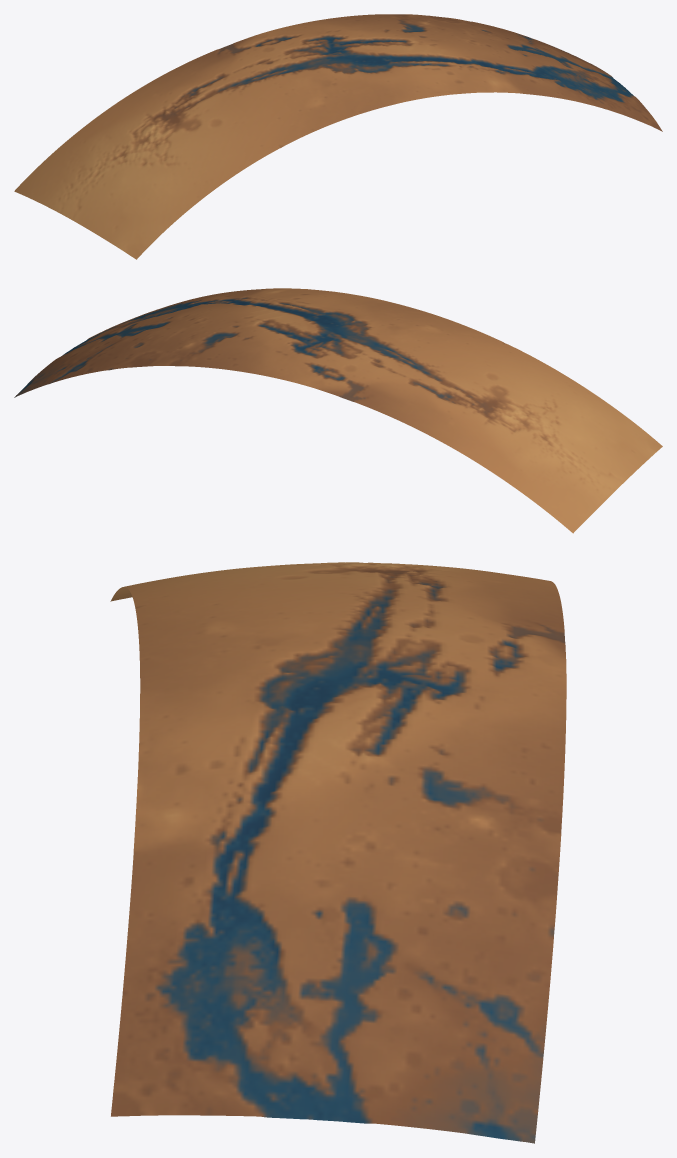
Rendered from mola-valles-marineris.glb.
3 renders of one model, top to bottom at view 1: azimuth 30°, elevation 25°; view 2: azimuth 150°, elevation 25°; view 3: azimuth 270°, elevation 25°, orthographic. The views are drawn at different scales.
Visible parts, largest first — view 1: Valles Marineris MOLA terrain; view 2: Valles Marineris MOLA terrain; view 3: Valles Marineris MOLA terrain.
Boxes of the visible parts, x1=… form: Valles Marineris MOLA terrain: x1=14, y1=14, x2=662, y2=259; Valles Marineris MOLA terrain: x1=14, y1=288, x2=662, y2=533; Valles Marineris MOLA terrain: x1=110, y1=562, x2=566, y2=1143.
Bounding box in the file's own units: 3885581 × 665865 × 1372099.
Materials: 1 (1 with a texture image).
